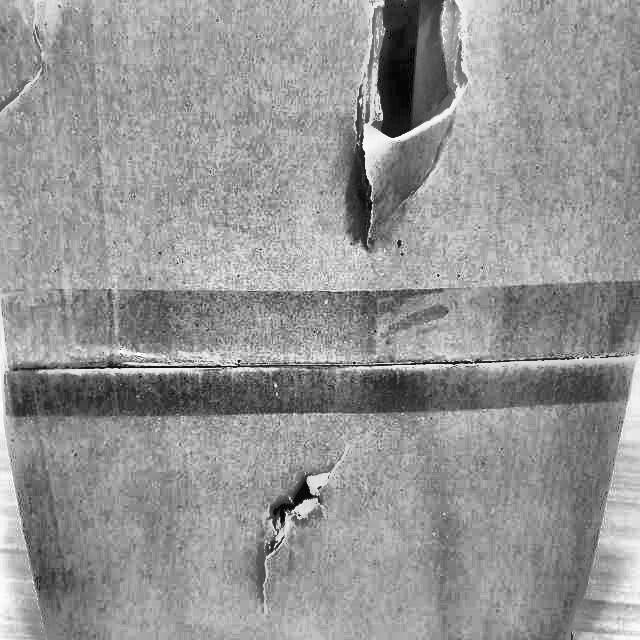box: (0, 0, 639, 639)
hole: (358, 6, 466, 143), (255, 469, 325, 568)
